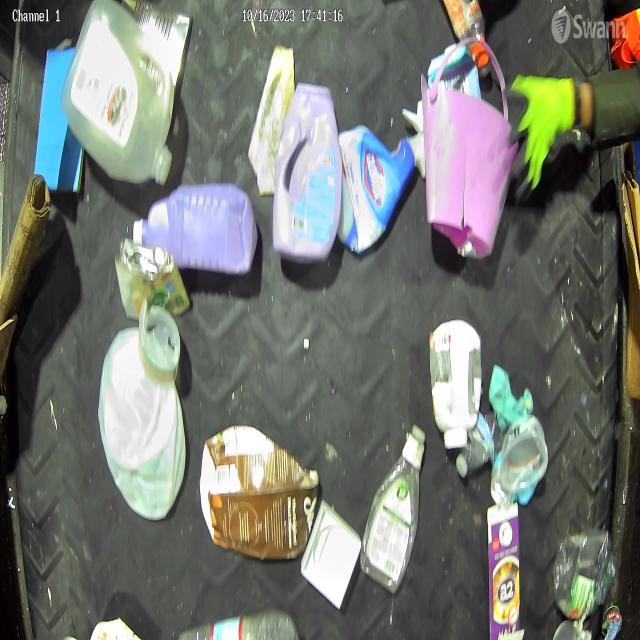can: (114, 243, 186, 307)
milk_jug: (98, 310, 188, 521), (66, 0, 175, 172)
non_white_jug: (272, 82, 342, 266), (134, 184, 258, 272), (341, 128, 414, 248)
plastic_bottle: (354, 425, 428, 586), (442, 0, 491, 65)
